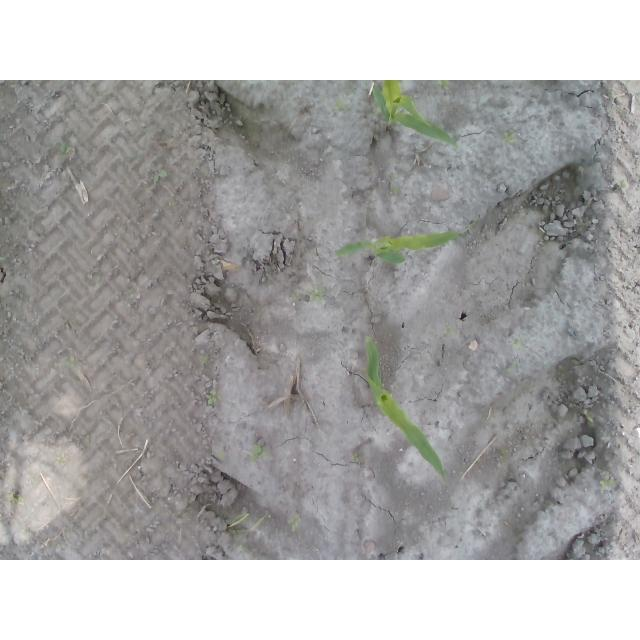Maize: (363, 333, 452, 483), (372, 80, 457, 149), (336, 230, 462, 266)
Weeds: (289, 287, 325, 307), (249, 441, 272, 463), (205, 388, 223, 408), (57, 143, 75, 161), (592, 163, 602, 194), (501, 360, 519, 377), (151, 169, 169, 185), (288, 513, 303, 532), (502, 131, 522, 145), (599, 478, 617, 493), (431, 80, 449, 94), (511, 336, 525, 352), (335, 97, 349, 112), (127, 151, 145, 162), (64, 352, 76, 368), (583, 408, 594, 424), (8, 495, 24, 506), (535, 304, 545, 321), (240, 512, 256, 522), (445, 325, 459, 336), (54, 455, 66, 467), (216, 449, 226, 463), (593, 547, 607, 557), (239, 135, 251, 146), (199, 356, 213, 365), (498, 447, 510, 457), (389, 183, 401, 193), (351, 452, 361, 463), (18, 528, 27, 540), (0, 255, 10, 265), (542, 500, 554, 508), (240, 542, 249, 552), (56, 544, 66, 552), (617, 180, 625, 189), (464, 223, 472, 232)
